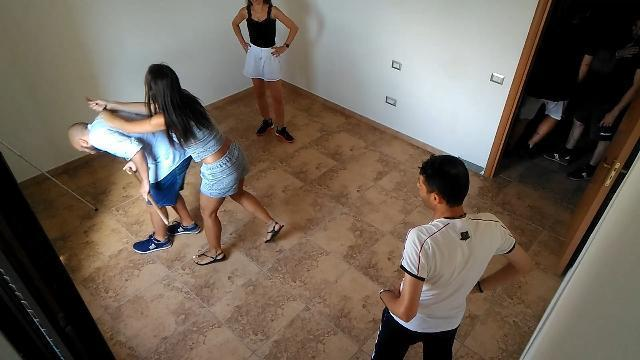non-violence: (373, 158, 515, 360), (544, 23, 640, 183), (504, 7, 581, 158), (227, 1, 307, 138)
violence: (69, 60, 284, 266)
